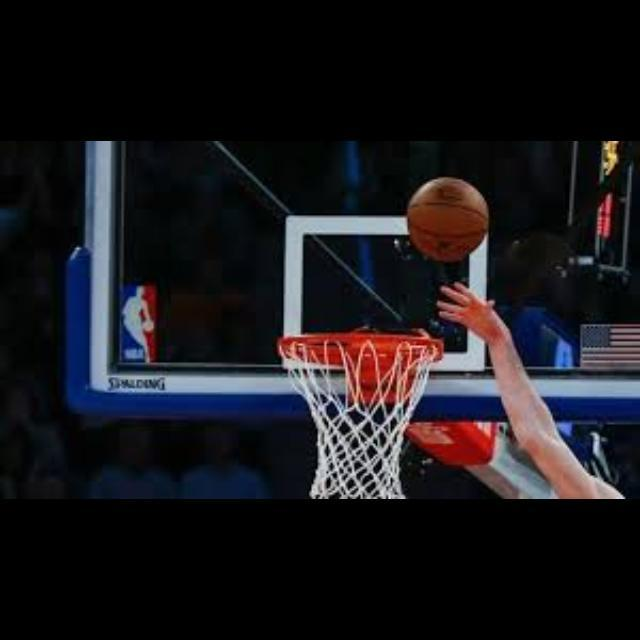basketball: (406, 174, 489, 264)
rim: (279, 334, 436, 500)
